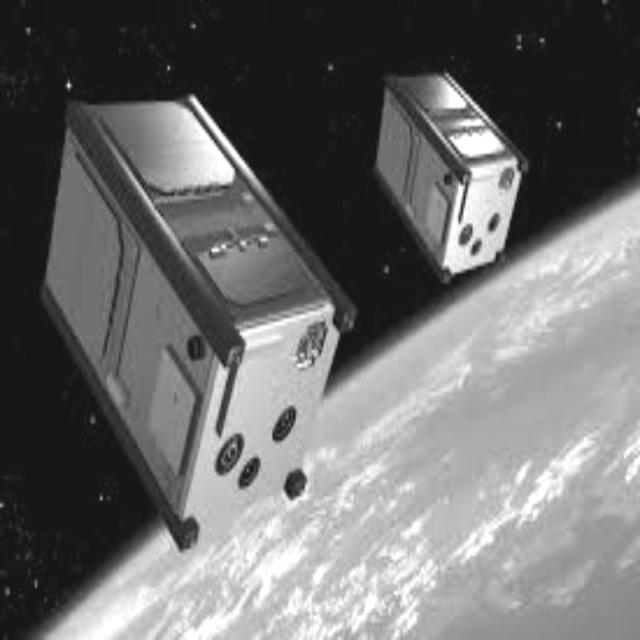medium_debris: (42, 74, 358, 560), (377, 51, 542, 316)
